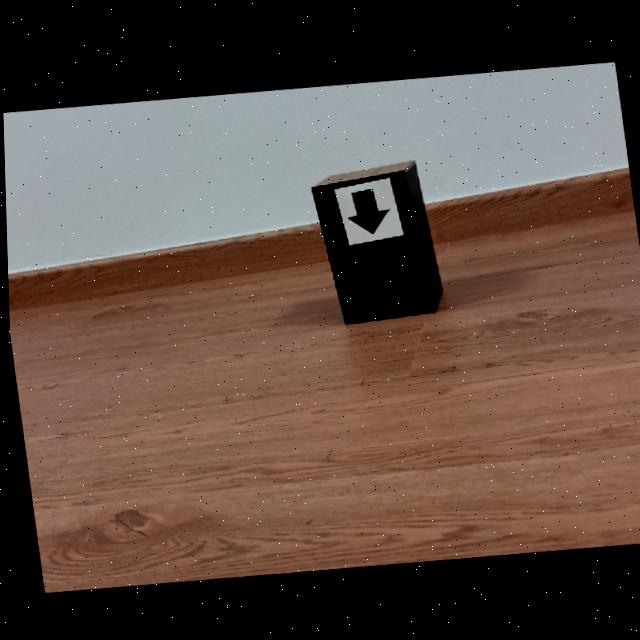DOWN: (347, 187, 387, 232)
